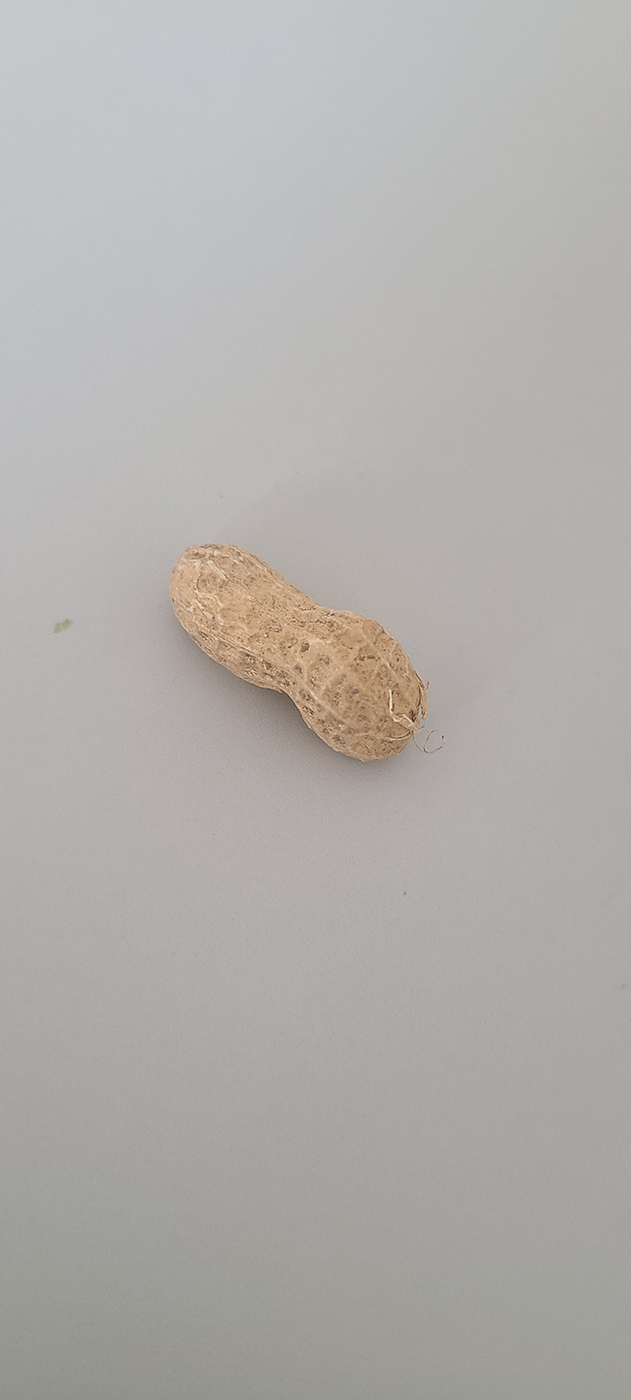h: (168, 542, 428, 764)
